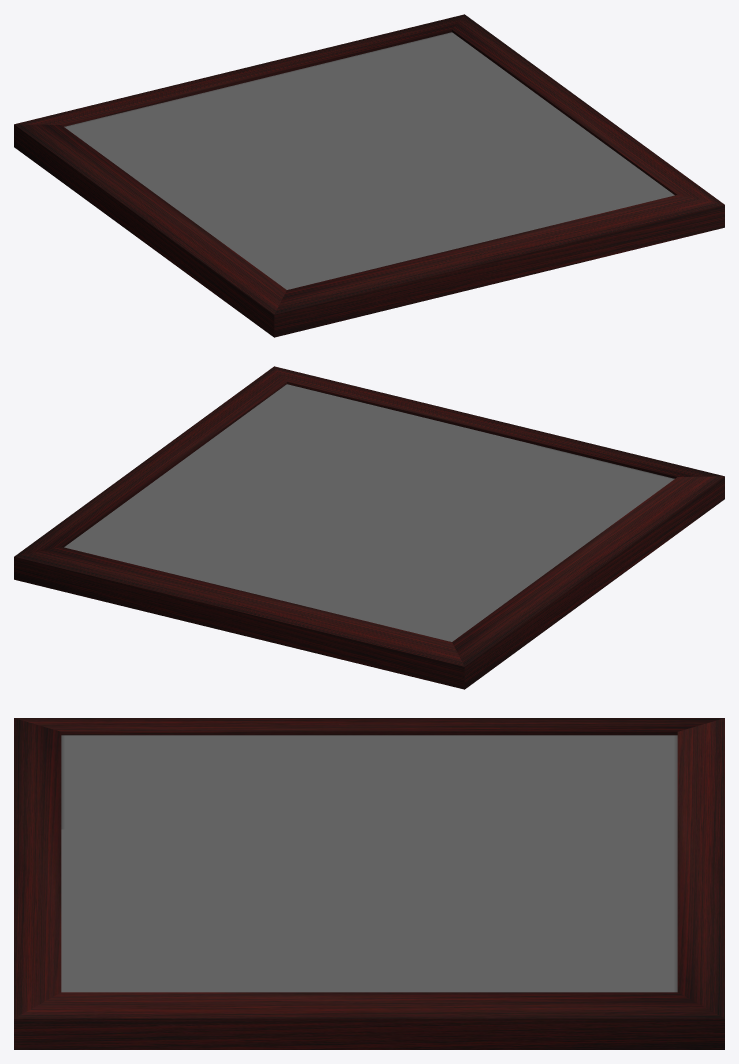
Rendered from board.gltf.
The picture shows the model from 3 angles, top to bottom: view 1: azimuth 30°, elevation 25°; view 2: azimuth 150°, elevation 25°; view 3: azimuth 270°, elevation 25°; orthographic projection. The views are drawn at different scales.
Visible parts, largest first — view 1: Cube; view 2: Cube; view 3: Cube.
Part boxes in pixels (x1,y1,x2,y2): Cube: (14,14,724,337); Cube: (14,366,724,689); Cube: (14,718,724,1049).
Size of the model in its own units: 2 by 0.1167 by 2.
1 material, 1 textured.
